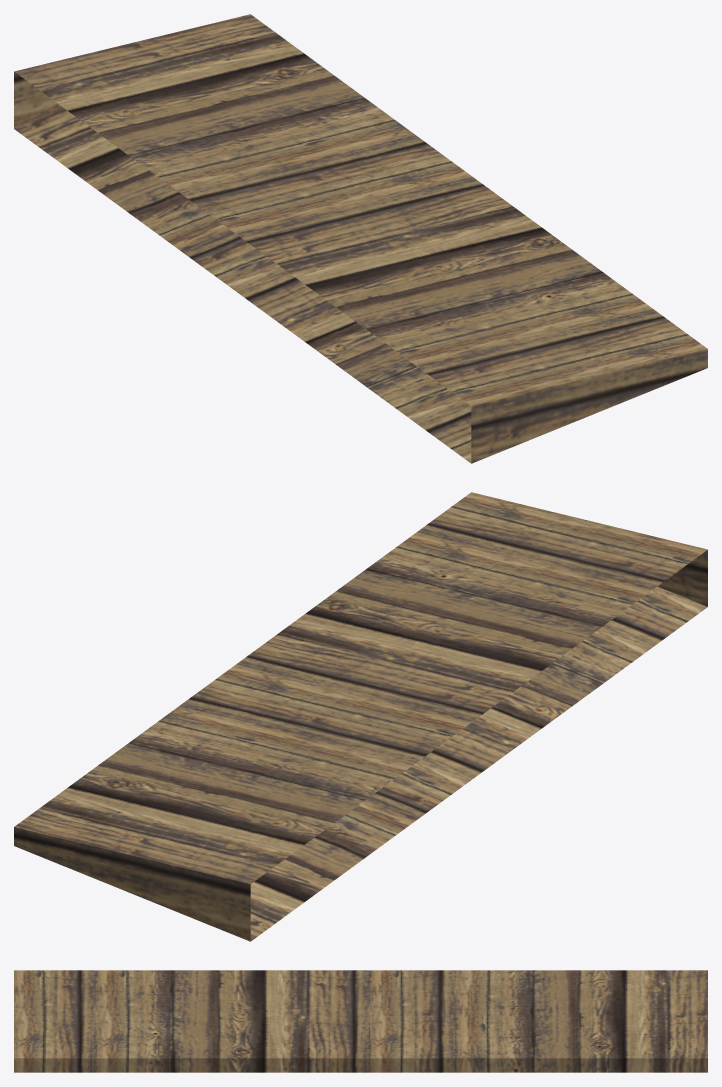
File: blacksmith_platform1LG.fbx
3 renders of one model, top to bottom at view 1: azimuth 30°, elevation 25°; view 2: azimuth 150°, elevation 25°; view 3: azimuth 270°, elevation 25°, orthographic. The views are drawn at different scales.
Parts seen in each view (by area): view 1: blacksmith_platform1LG; view 2: blacksmith_platform1LG; view 3: blacksmith_platform1LG.
Part boxes in pixels (x1,y1,x2,y2): blacksmith_platform1LG: [14, 14, 707, 463]; blacksmith_platform1LG: [14, 492, 707, 941]; blacksmith_platform1LG: [14, 970, 707, 1072].
Size of the model in its own units: 366 by 84.89 by 1225.
